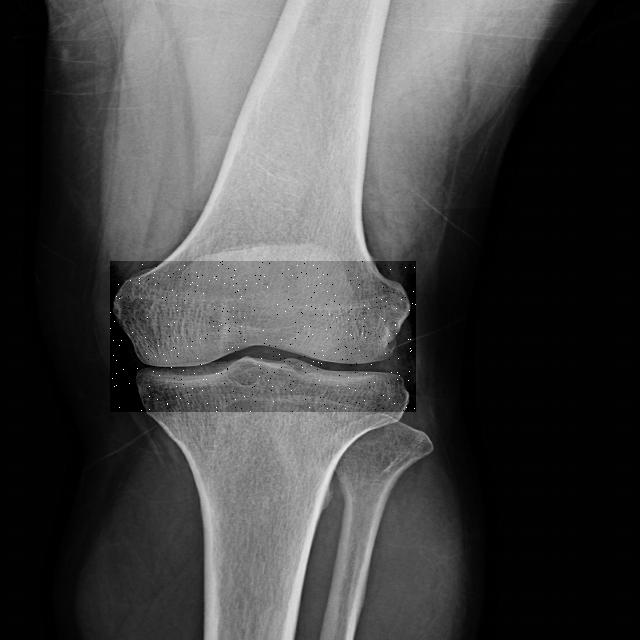osteo: (110, 261, 416, 412)
